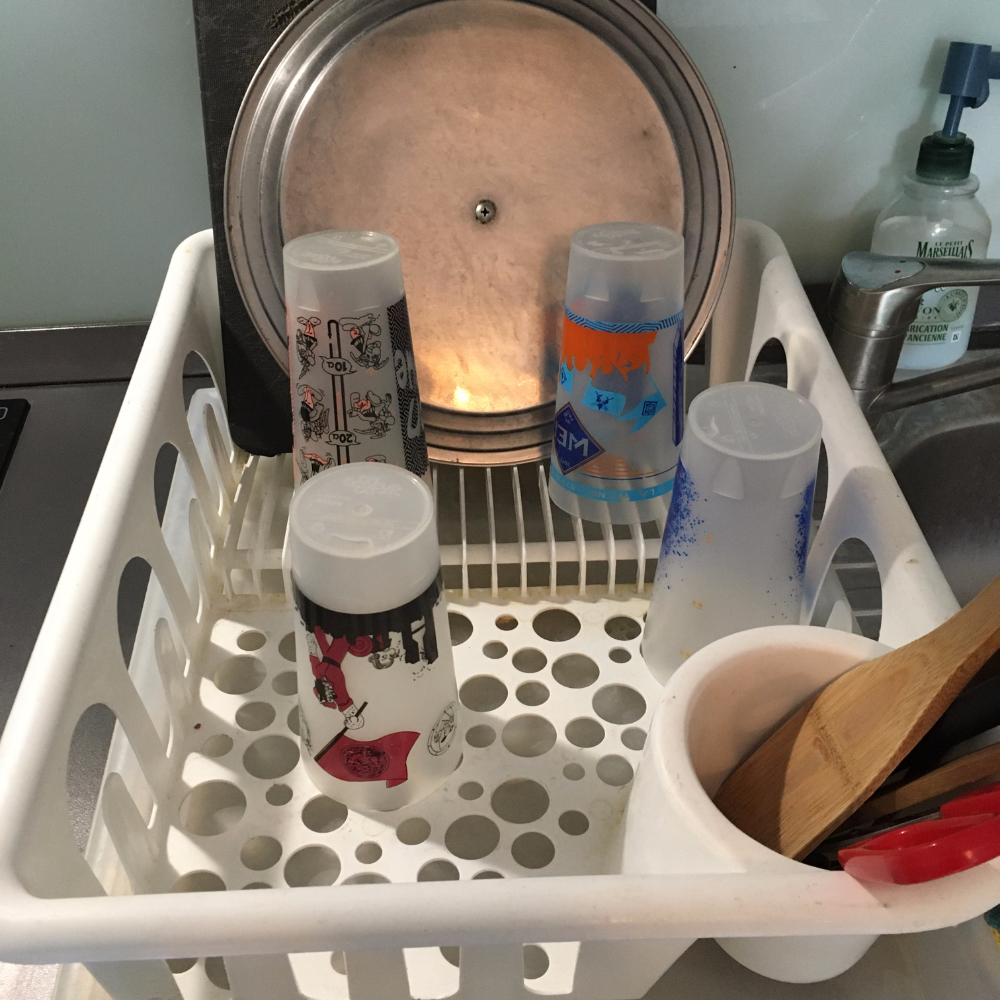ecocup: (289, 461, 464, 809), (642, 382, 822, 688), (547, 221, 686, 526), (282, 230, 433, 492)
